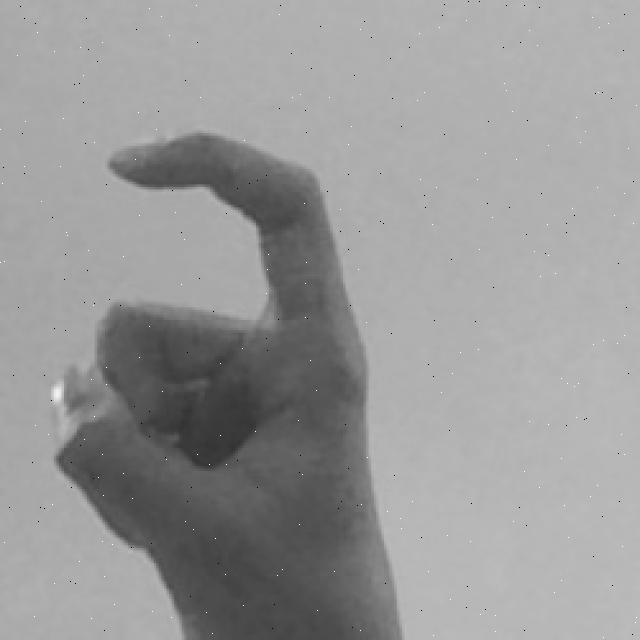X: (41, 123, 406, 640)
